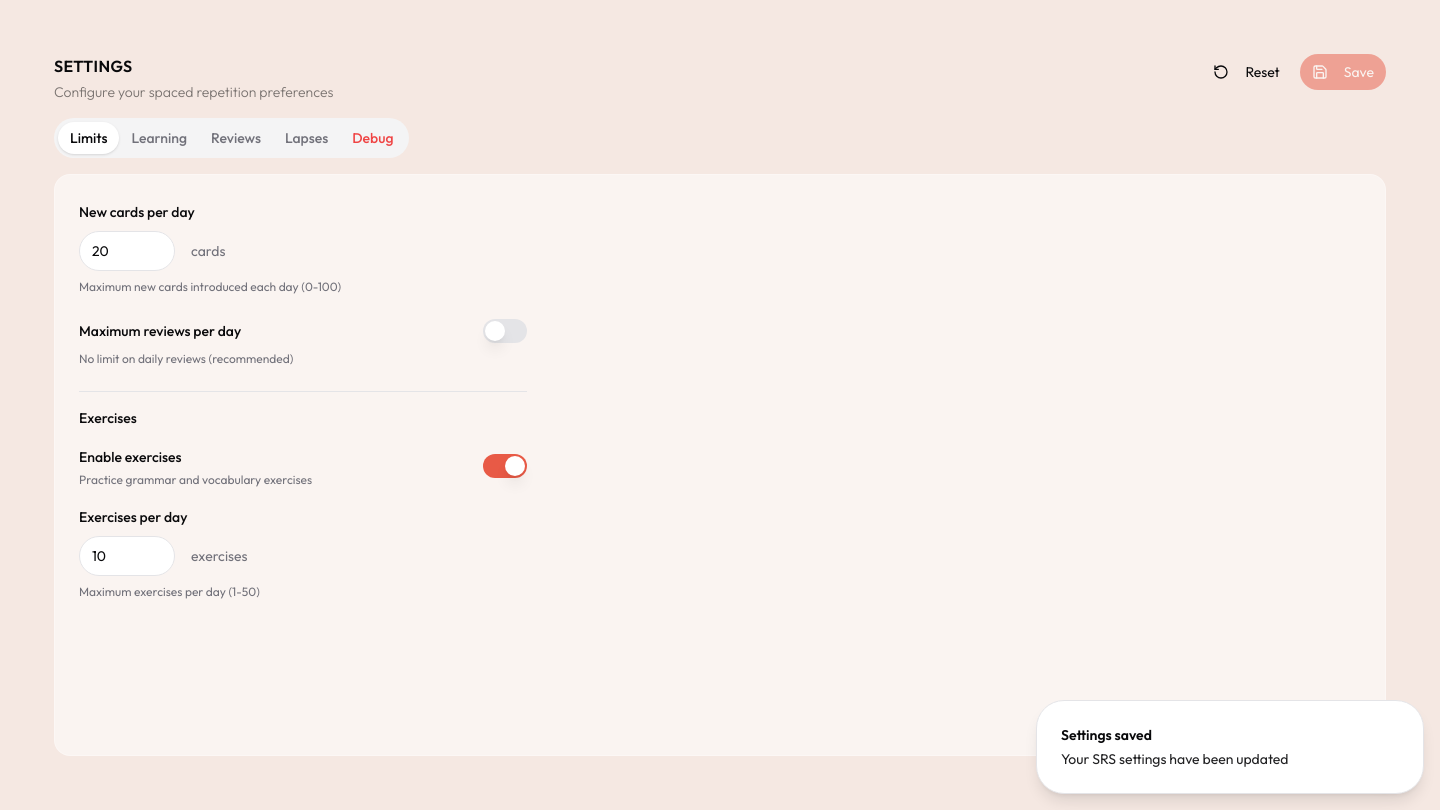
it: Settings Page › navigates between tabs
Expected: the heading "Settings" is shown, [54,56,133,76]
Expected: the number field labelled "New cards per day" is shown, [79,231,175,271]
// Click Learning tab
Click the tab "Learning": (159, 138) [120,122,199,154]
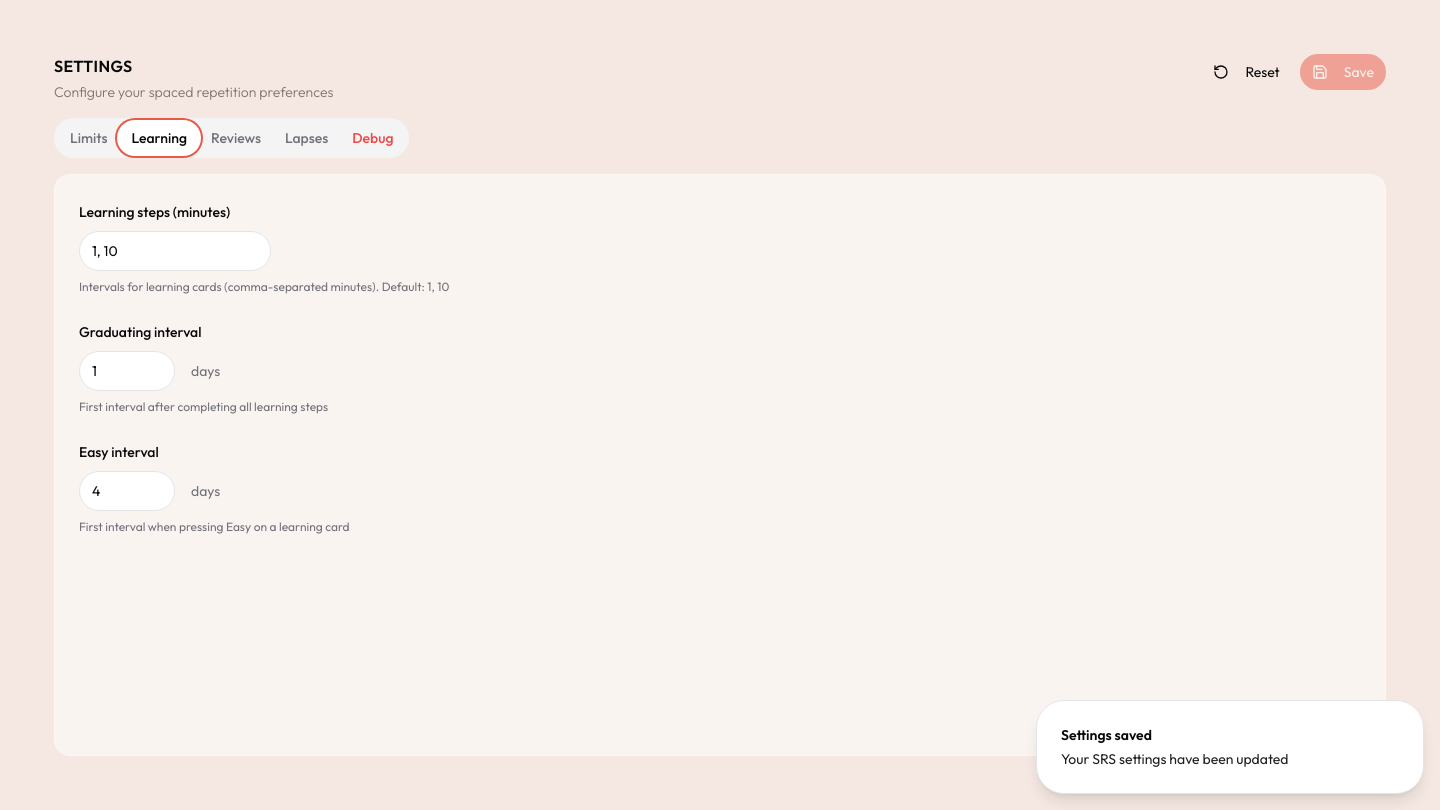
Expected: the field labelled "Learning steps (minutes)" is shown, [79,231,271,271]
// Click Reviews tab
Click the tab "Reviews": (236, 138) [199,122,273,154]
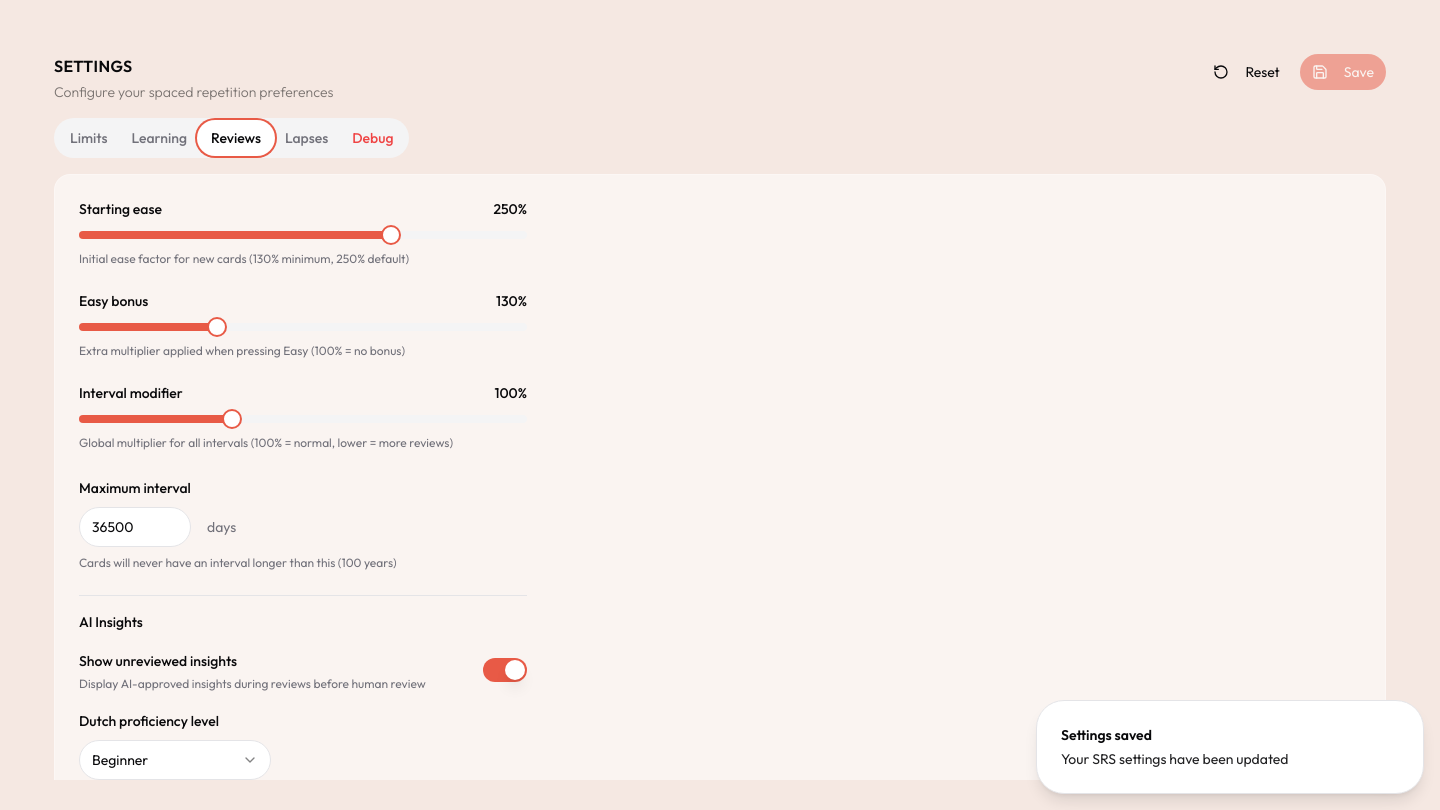
Expected: the text "Starting ease" is shown, [79,202,162,216]
// Click Lapses tab
Click the tab "Lapses": (307, 138) [273,122,340,154]
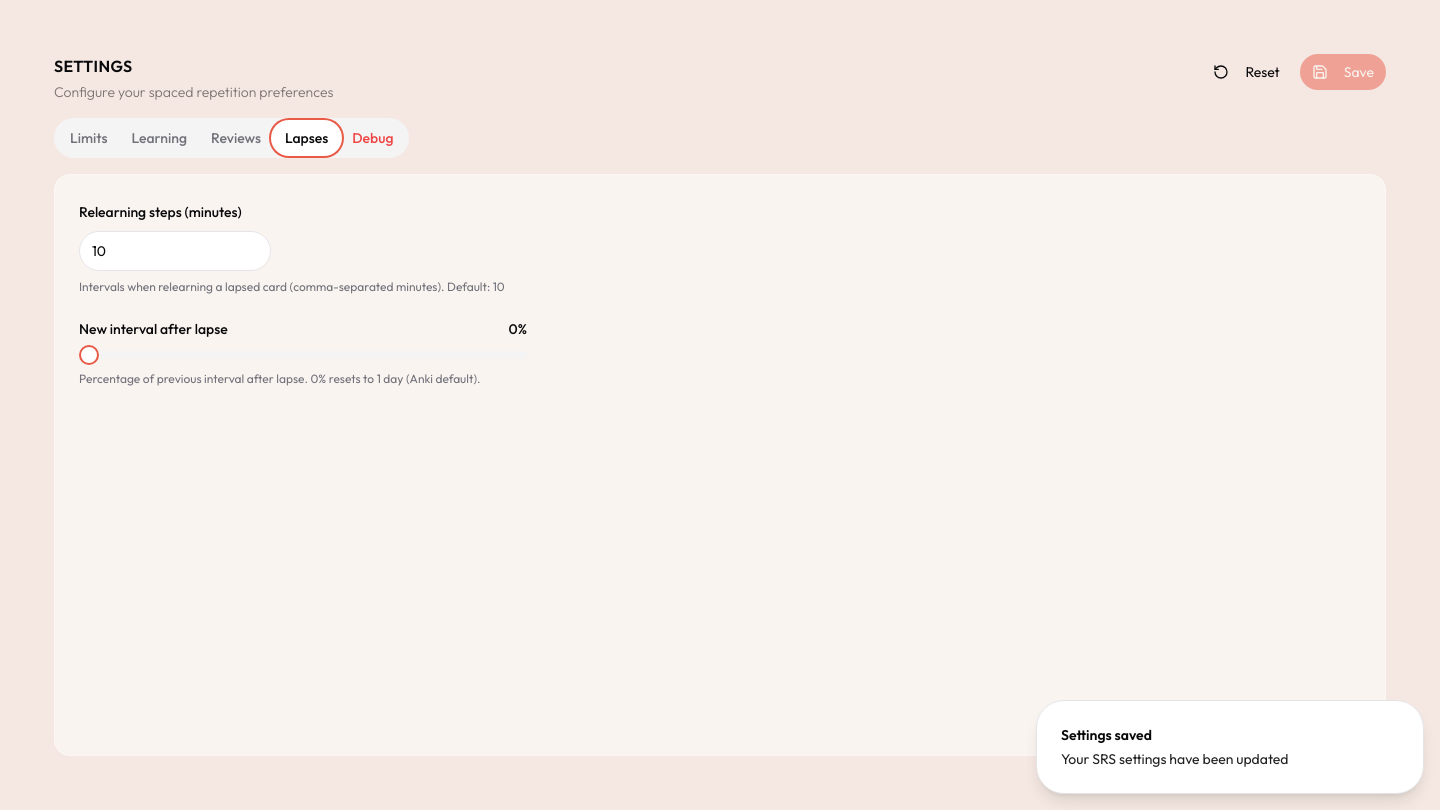
Expected: the field labelled "Relearning steps (minutes)" is shown, [79,231,271,271]
